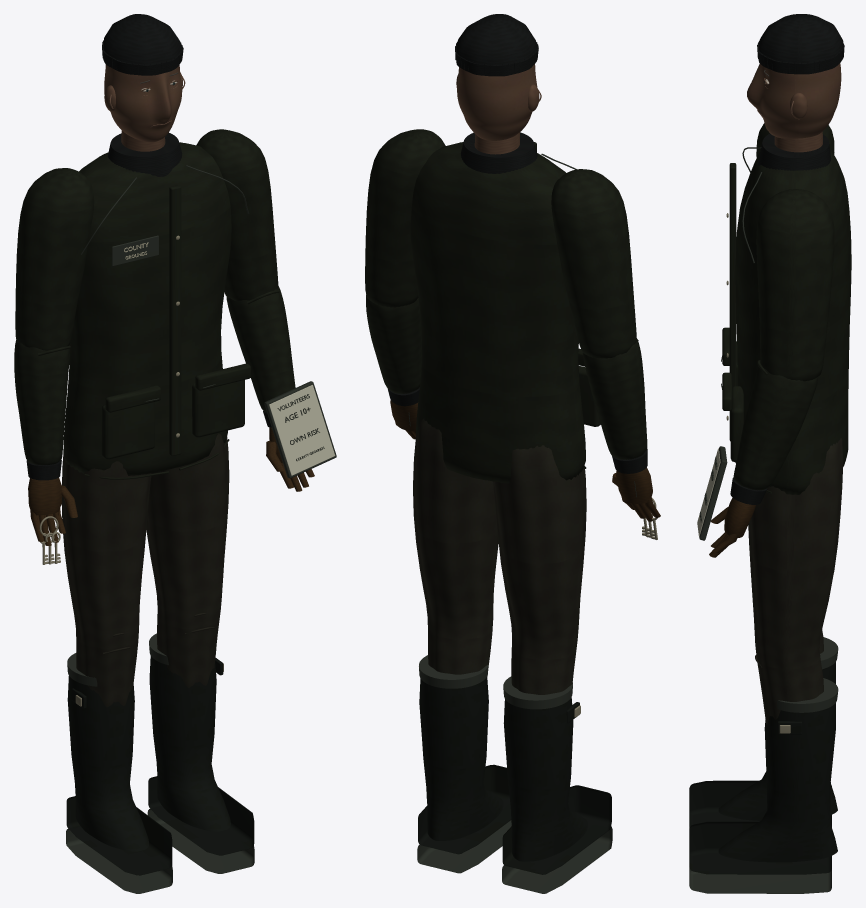
File: groundskeeper.glb
The picture shows the model from 3 angles, left to right: view 1: azimuth 30°, elevation 25°; view 2: azimuth 150°, elevation 25°; view 3: azimuth 270°, elevation 25°; orthographic projection. The views are drawn at different scales.
Visible parts, largest first — view 1: Idle breathing chest / Rain dark olive wax, groundskeeper / Worn trouser twill, groundskeeper / Rubber with dried mud, Left shoulder idle / Rain dark olive wax, Right shoulder idle / Rain dark olive wax, Left forearm idle / Rain dark olive wax, Right forearm idle / Rain dark olive wax, groundskeeper / Dark seams, Head watchful idle / Weathered skin, Head watchful idle / Charcoal ribbed wool, Right forearm idle / Inspection label paper, Left forearm idle / Work glove leather (+4 smaller); view 2: Idle breathing chest / Rain dark olive wax, groundskeeper / Worn trouser twill, groundskeeper / Rubber with dried mud, Left shoulder idle / Rain dark olive wax, Right shoulder idle / Rain dark olive wax, groundskeeper / Dark seams, Left forearm idle / Rain dark olive wax, Head watchful idle / Weathered skin, Head watchful idle / Charcoal ribbed wool, Right forearm idle / Rain dark olive wax, Idle breathing chest / Charcoal ribbed wool, Left forearm idle / Work glove leather (+2 smaller); view 3: Idle breathing chest / Rain dark olive wax, groundskeeper / Rubber with dried mud, groundskeeper / Worn trouser twill, Right shoulder idle / Rain dark olive wax, Right forearm idle / Rain dark olive wax, Head watchful idle / Weathered skin, Head watchful idle / Charcoal ribbed wool, groundskeeper / Dark seams, Idle breathing chest / Charcoal ribbed wool, Right forearm idle / Work glove leather, Right forearm idle / Dark seams, Idle breathing chest / Weathered skin (+3 smaller).
Boxes of the visible parts, x1,y1,x2,y2 form: Idle breathing chest / Rain dark olive wax: (63,142,250,479); groundskeeper / Worn trouser twill: (61,433,229,707); groundskeeper / Rubber with dried mud: (66,656,254,875); Left shoulder idle / Rain dark olive wax: (15,168,94,350); Right shoulder idle / Rain dark olive wax: (196,129,278,301); Left forearm idle / Rain dark olive wax: (14,340,70,465); Right forearm idle / Rain dark olive wax: (226,286,295,411); groundskeeper / Dark seams: (66,633,254,893); Head watchful idle / Weathered skin: (104,64,182,142); Head watchful idle / Charcoal ribbed wool: (102,14,183,75); Right forearm idle / Inspection label paper: (269,385,335,475); Left forearm idle / Work glove leather: (28,477,77,545); Idle breathing chest / Rain dark olive wax: (410,142,600,483); groundskeeper / Worn trouser twill: (413,418,586,694); groundskeeper / Rubber with dried mud: (418,677,611,874); Left shoulder idle / Rain dark olive wax: (551,169,636,358); Right shoulder idle / Rain dark olive wax: (365,129,445,307); groundskeeper / Dark seams: (417,655,612,893); Left forearm idle / Rain dark olive wax: (582,338,647,459); Head watchful idle / Weathered skin: (456,64,539,140); Head watchful idle / Charcoal ribbed wool: (455,14,538,76); Right forearm idle / Rain dark olive wax: (366,295,421,393); Idle breathing chest / Charcoal ribbed wool: (460,132,537,173); Left forearm idle / Work glove leather: (612,467,660,521); Idle breathing chest / Rain dark olive wax: (722,149,851,494); groundskeeper / Rubber with dried mud: (689,662,837,874); groundskeeper / Worn trouser twill: (748,438,843,724); Right shoulder idle / Rain dark olive wax: (756,189,834,381); Right forearm idle / Rain dark olive wax: (733,360,818,490); Head watchful idle / Weathered skin: (747,63,841,138); Head watchful idle / Charcoal ribbed wool: (757,14,844,74); groundskeeper / Dark seams: (689,637,838,893); Idle breathing chest / Charcoal ribbed wool: (758,133,831,170); Right forearm idle / Work glove leather: (709,497,756,557); Right forearm idle / Dark seams: (699,446,749,540); Idle breathing chest / Weathered skin: (774,132,822,152).
Size of the model in its own units: 0.6173 by 1.75 by 0.3049.
Materials: 15 (6 with a texture image).
